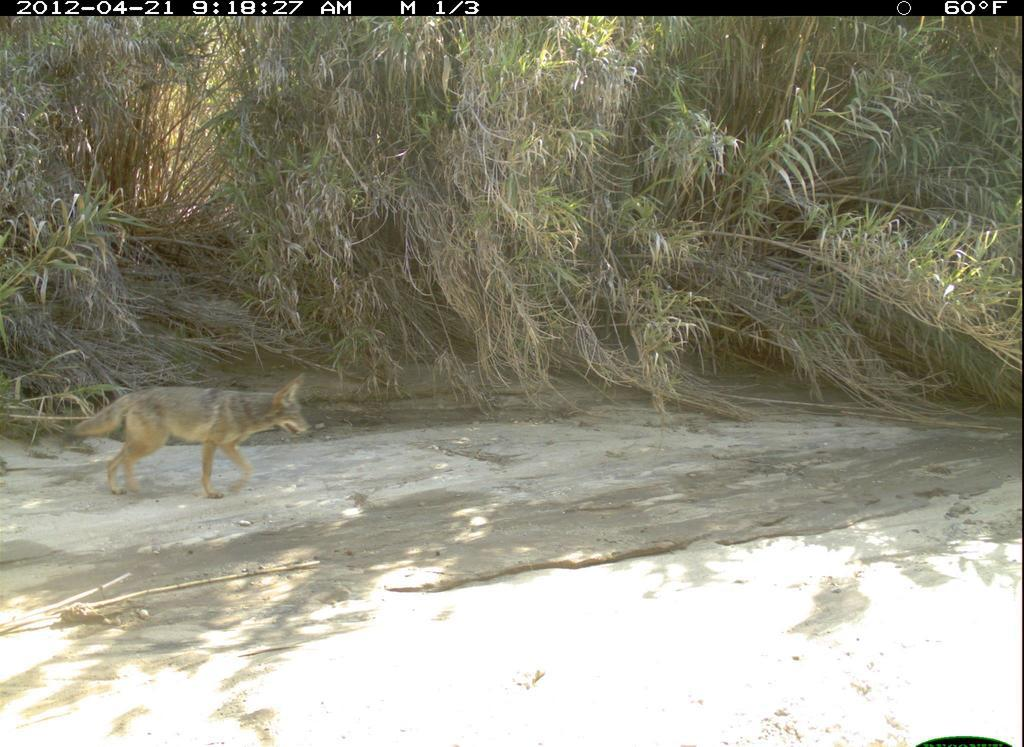coyote: (62, 364, 321, 515)
